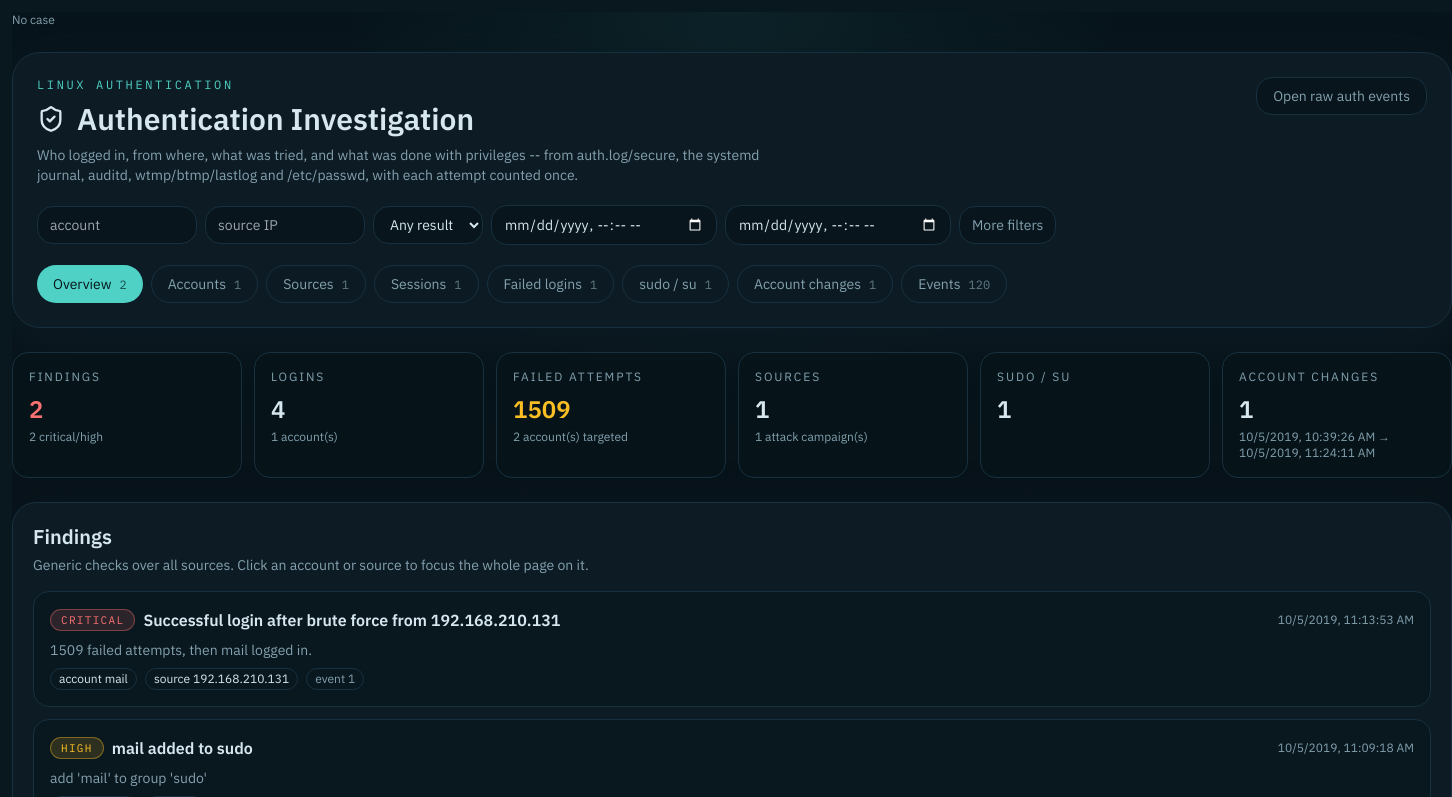
Test: LinuxAuthenticationPage › focuses the whole page on an account picked from a finding
Click the 1st button "account mail": (93, 679) 50,668 -> 137,690
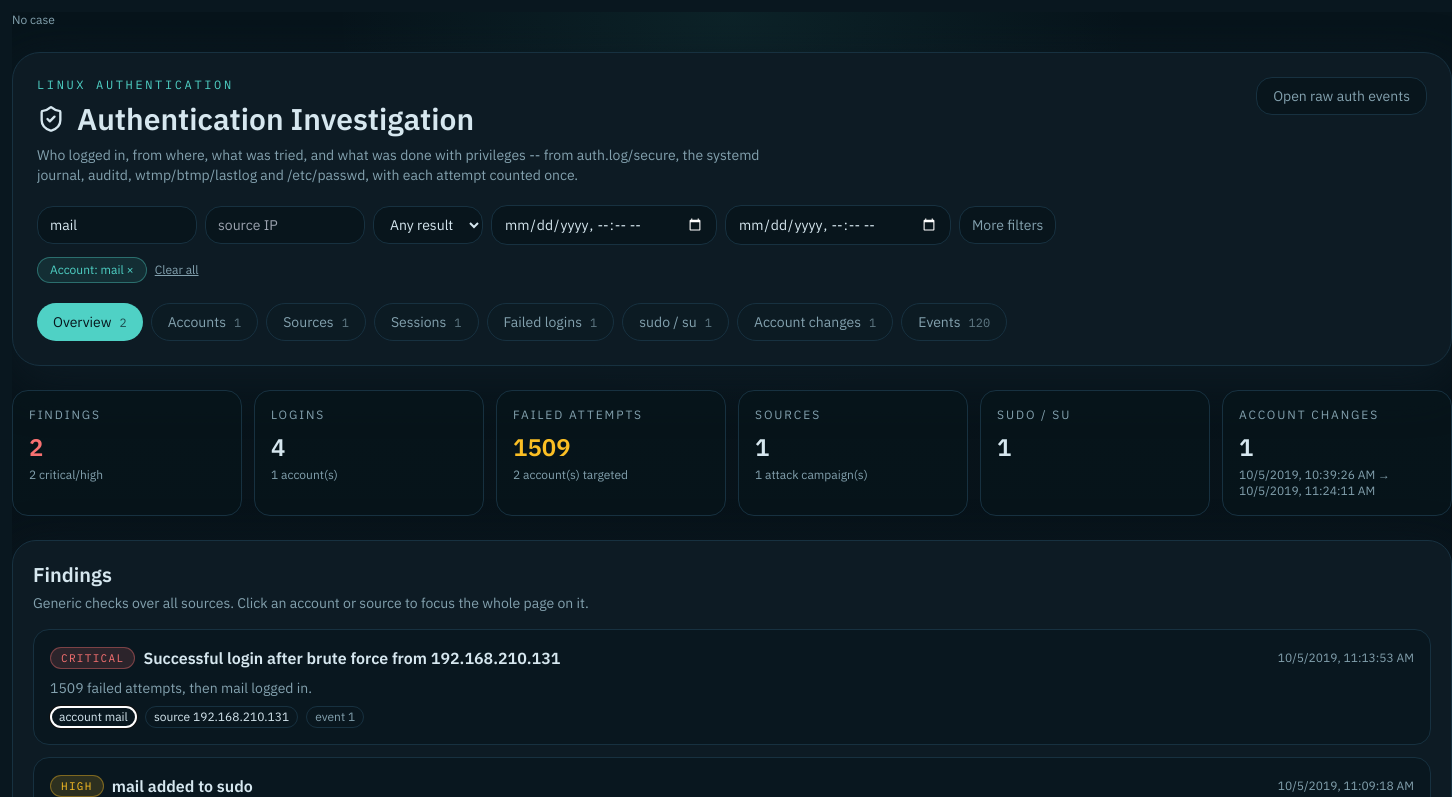
Now the button "Account: mail ×" is shown, box 37,257 -> 147,283
